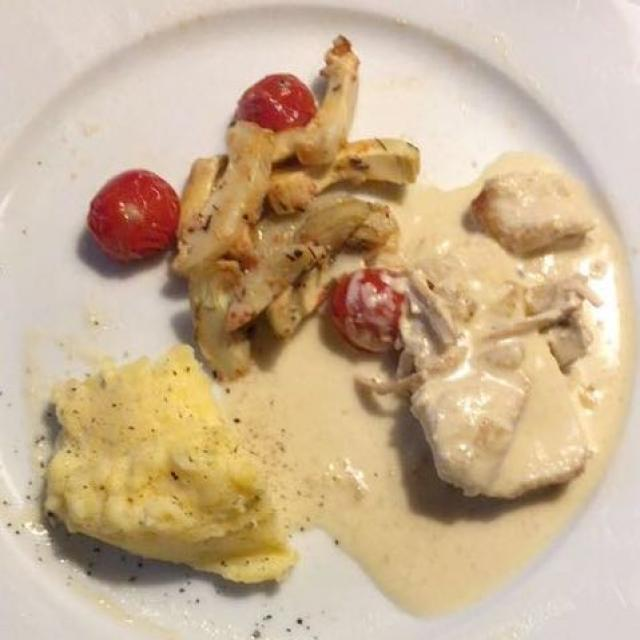artichoke: (182, 30, 463, 362)
chicken: (401, 171, 602, 555)
chicken-breast: (400, 168, 597, 504)
polenta: (26, 342, 287, 574)
sauce: (227, 134, 629, 622)
tomato: (88, 165, 179, 253)
